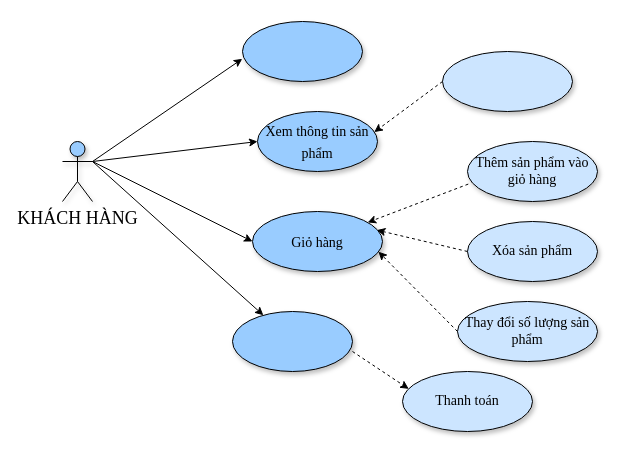
The diagram is 621 pixels wide and 456 high, and some of its shapes have lost their labels. Each missing label, with the centre of its shape:
"Mua hàng" goes at [293,342].
"Tìm kiếm sản phẩm" goes at [508,82].
"Đăng kí" goes at [303,52].
